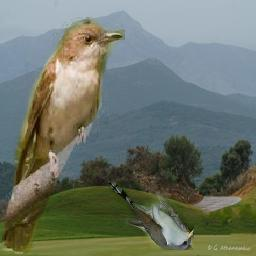Cuckoo: (3, 18, 126, 255), (108, 182, 194, 251)
